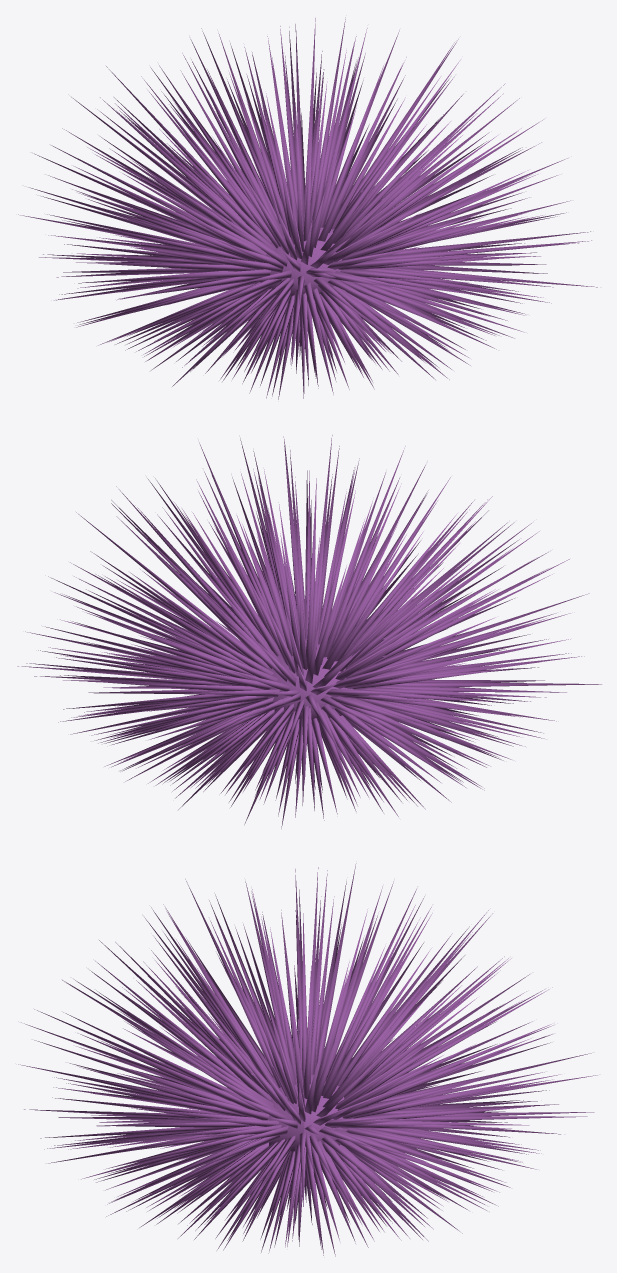
Rendered from sea_urchin_long_spined_game.glb.
3 renders of one model, top to bottom at view 1: azimuth 30°, elevation 25°; view 2: azimuth 150°, elevation 25°; view 3: azimuth 270°, elevation 25°, orthographic.
Visible parts, largest first — view 1: sea_urchin_long_spined_game; view 2: sea_urchin_long_spined_game; view 3: sea_urchin_long_spined_game.
Part boxes in pixels (x1,y1,x2,y2): sea_urchin_long_spined_game: [18, 17, 597, 399]; sea_urchin_long_spined_game: [17, 435, 601, 828]; sea_urchin_long_spined_game: [18, 863, 597, 1256].
Bounding box in the file's own units: 0.2729 × 0.1463 × 0.2801.
